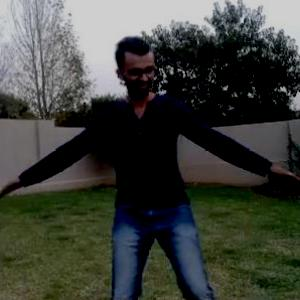land: (50, 42, 284, 299)
